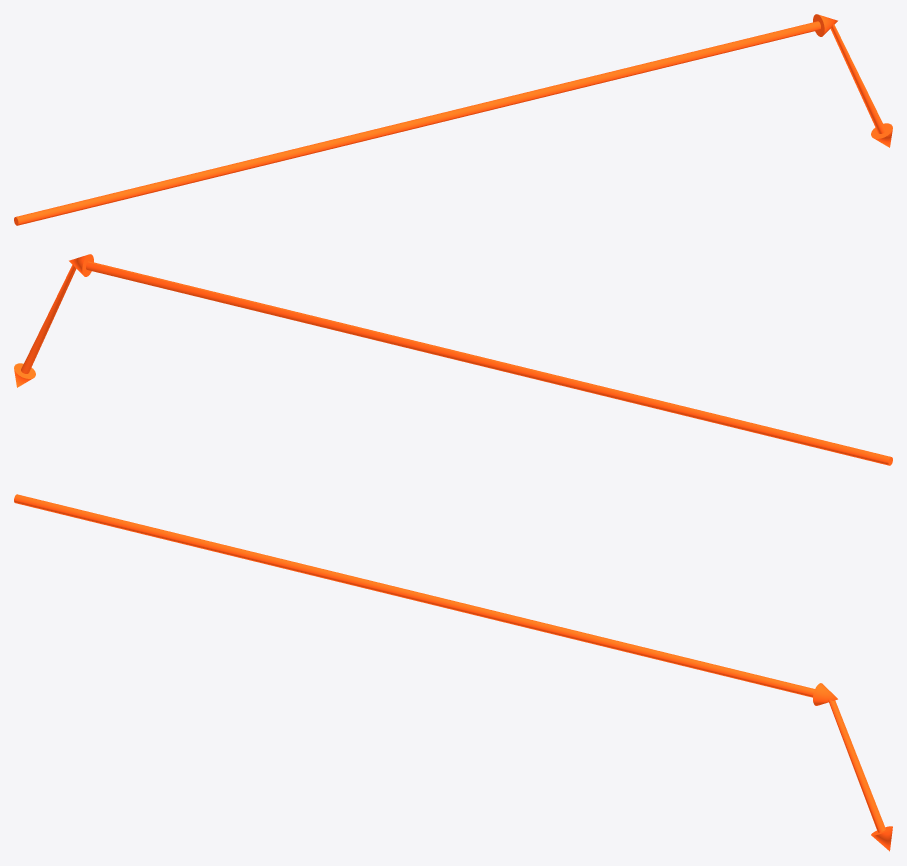
The model's file is vibrating_conveyor_flow.glb.
The picture shows the model from 3 angles, top to bottom: view 1: azimuth 30°, elevation 25°; view 2: azimuth 150°, elevation 25°; view 3: azimuth 330°, elevation 25°; orthographic projection.
Parts seen in each view (by area): view 1: material; view 2: material; view 3: material.
Boxes of the visible parts, x1=… form: material: x1=14, y1=14, x2=892, y2=225; material: x1=14, y1=254, x2=892, y2=465; material: x1=14, y1=494, x2=892, y2=851.
Bounding box in the file's own units: 3.12 × 0.512 × 0.0728.
